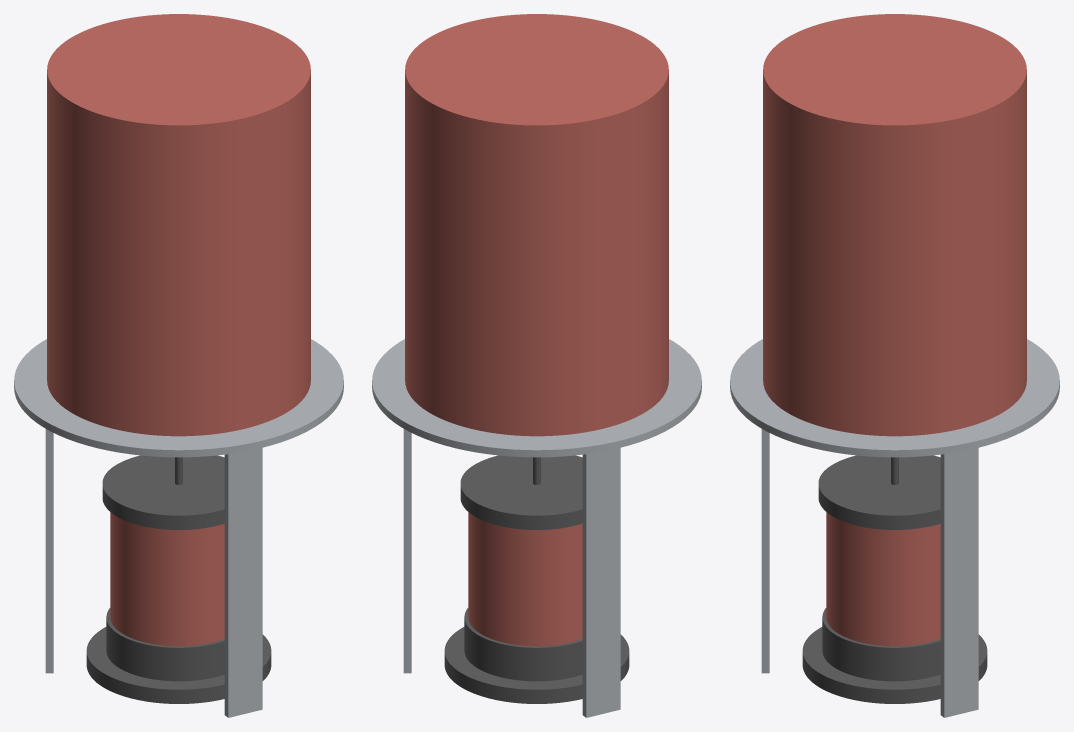
File: esp2024_sa5_top.glb
The picture shows the model from 3 angles, left to right: view 1: azimuth 30°, elevation 25°; view 2: azimuth 150°, elevation 25°; view 3: azimuth 270°, elevation 25°; orthographic projection.
Visible parts, largest first — view 1: topmark, lantern lens, topmark plate, topmark strut 3, lantern base, lantern cap, topmark strut 2; view 2: topmark, lantern lens, topmark plate, topmark strut 2, lantern base, lantern cap, topmark strut 1; view 3: topmark, lantern lens, topmark plate, topmark strut 1, lantern base, lantern cap, topmark strut 3.
Part boxes in pixels (bbox=[...]): topmark: bbox=[47, 14, 310, 436]; lantern lens: bbox=[110, 512, 224, 646]; topmark plate: bbox=[14, 339, 343, 457]; topmark strut 3: bbox=[224, 448, 262, 717]; lantern base: bbox=[86, 608, 271, 703]; lantern cap: bbox=[102, 455, 224, 529]; topmark strut 2: bbox=[45, 429, 53, 673]; topmark: bbox=[405, 14, 668, 436]; lantern lens: bbox=[468, 512, 582, 646]; topmark plate: bbox=[372, 339, 701, 457]; topmark strut 2: bbox=[582, 448, 620, 717]; lantern base: bbox=[444, 608, 629, 703]; lantern cap: bbox=[460, 455, 582, 529]; topmark strut 1: bbox=[403, 429, 411, 673]; topmark: bbox=[763, 14, 1026, 436]; lantern lens: bbox=[826, 512, 940, 646]; topmark plate: bbox=[730, 339, 1059, 457]; topmark strut 1: bbox=[940, 448, 978, 717]; lantern base: bbox=[802, 608, 987, 703]; lantern cap: bbox=[818, 455, 940, 529]; topmark strut 3: bbox=[761, 429, 769, 673].
Bounding box in the file's own units: 250 × 498 × 250.
